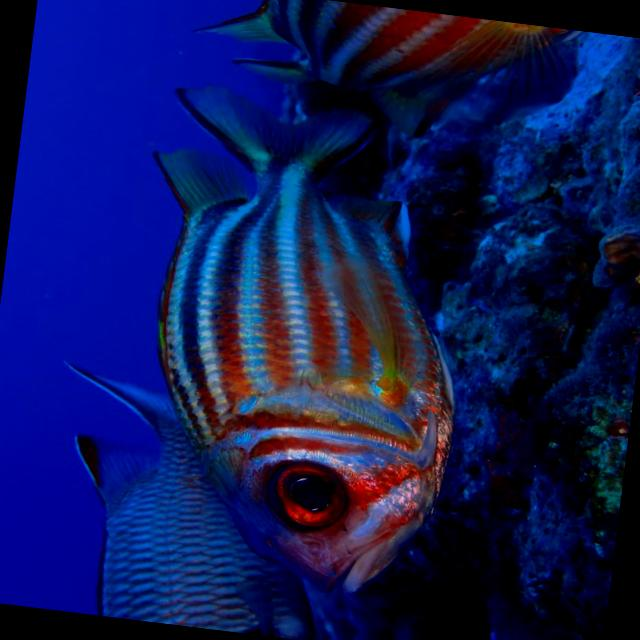Asker Baligi: (99, 75, 494, 606)
